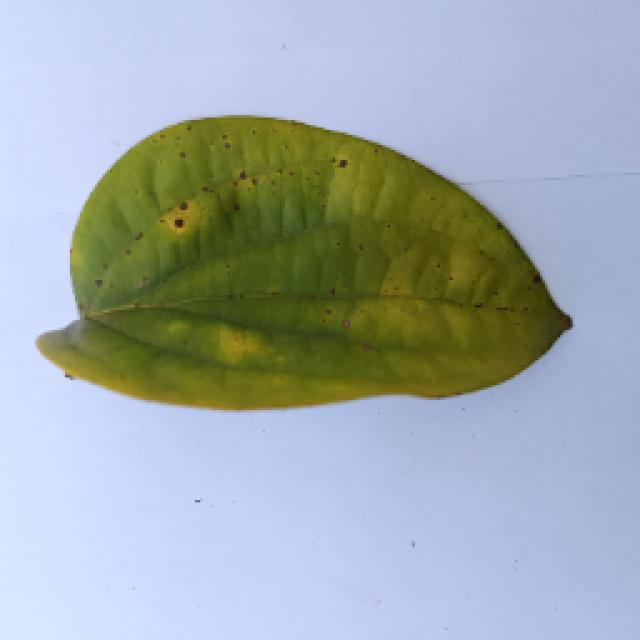slow-decline: (20, 118, 612, 612)
